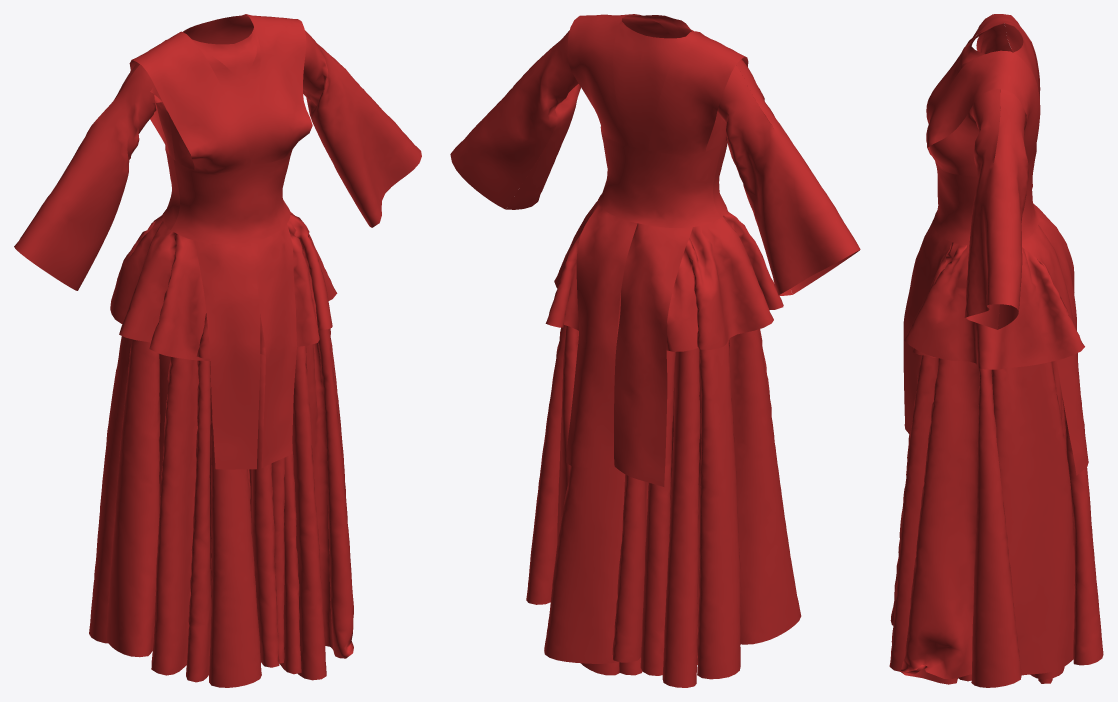
The picture shows the model from 3 angles, left to right: view 1: azimuth 30°, elevation 25°; view 2: azimuth 150°, elevation 25°; view 3: azimuth 270°, elevation 25°; orthographic projection. The views are drawn at different scales.
Parts seen in each view (by area): view 1: up, down; view 2: up, down; view 3: down, up.
Part boxes in pixels (box(x1,y1,x2,y2)): up: box(14, 14, 421, 469); down: box(89, 328, 353, 687); up: box(450, 14, 860, 486); down: box(526, 325, 801, 687); down: box(889, 355, 1103, 687); up: box(903, 14, 1088, 475).
Bounding box in the file's own units: 2.07 × 3.1 × 0.9773.
